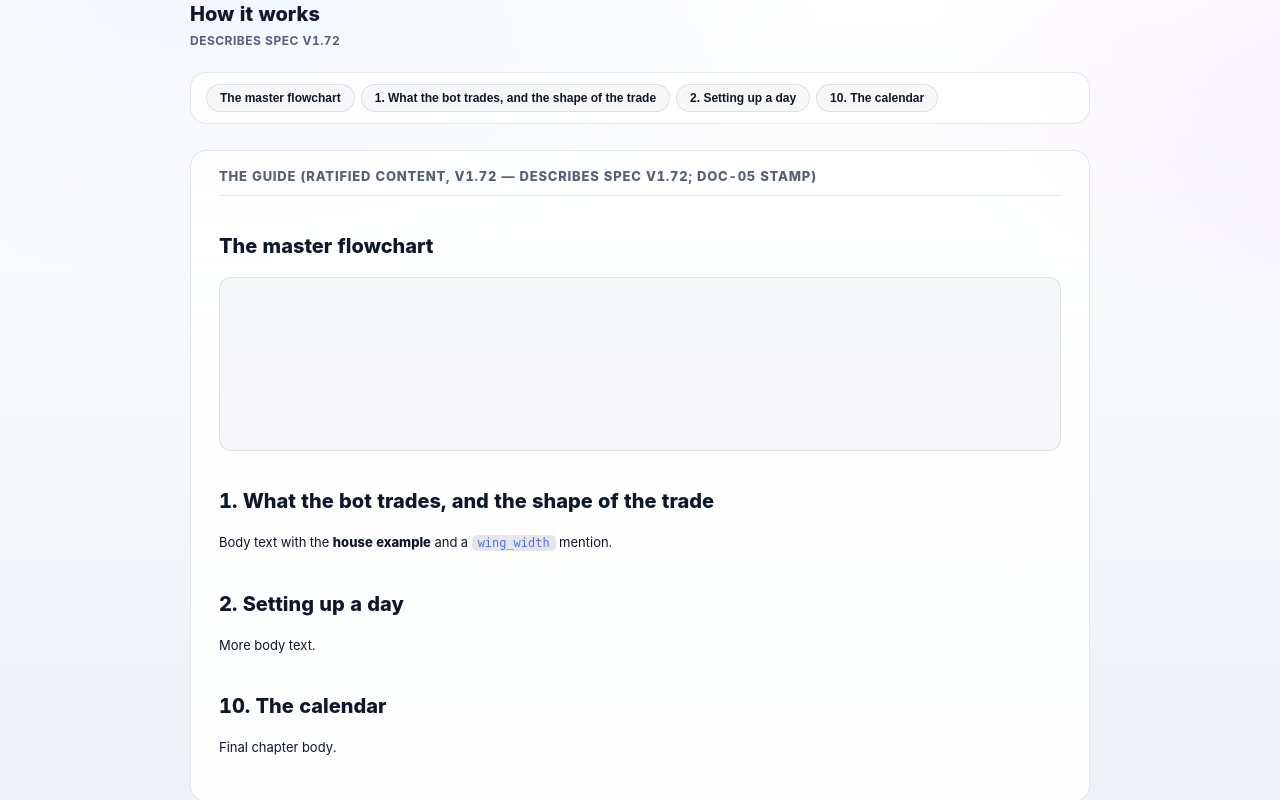
HowItWorksPage — DOC-05 single-source rendering › the master flowchart is clickable to a full-screen pannable zoomable view (DOC-05, v1.77)
Click the button named "The master flowchart (doc 12) — click to enlarge, pan and zo" at [640, 364], box [219,277,1061,451]
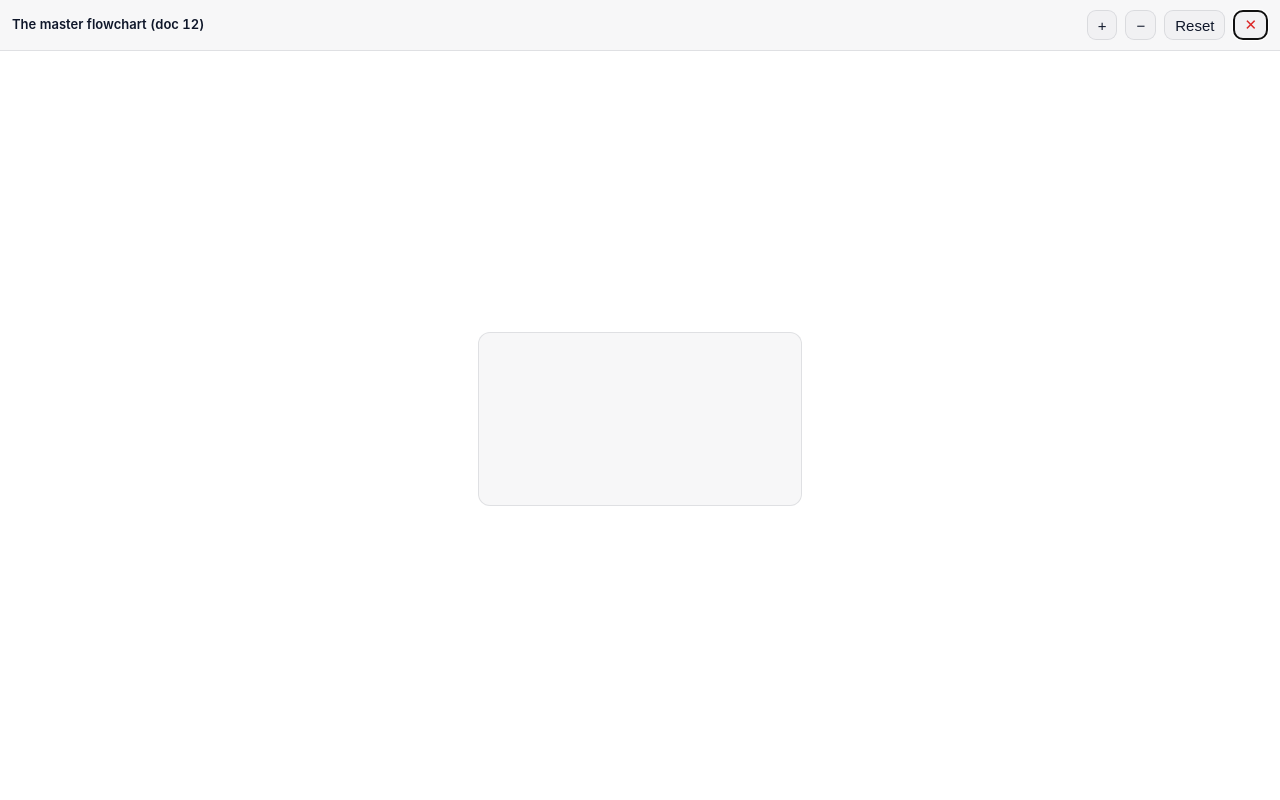
Press Escape
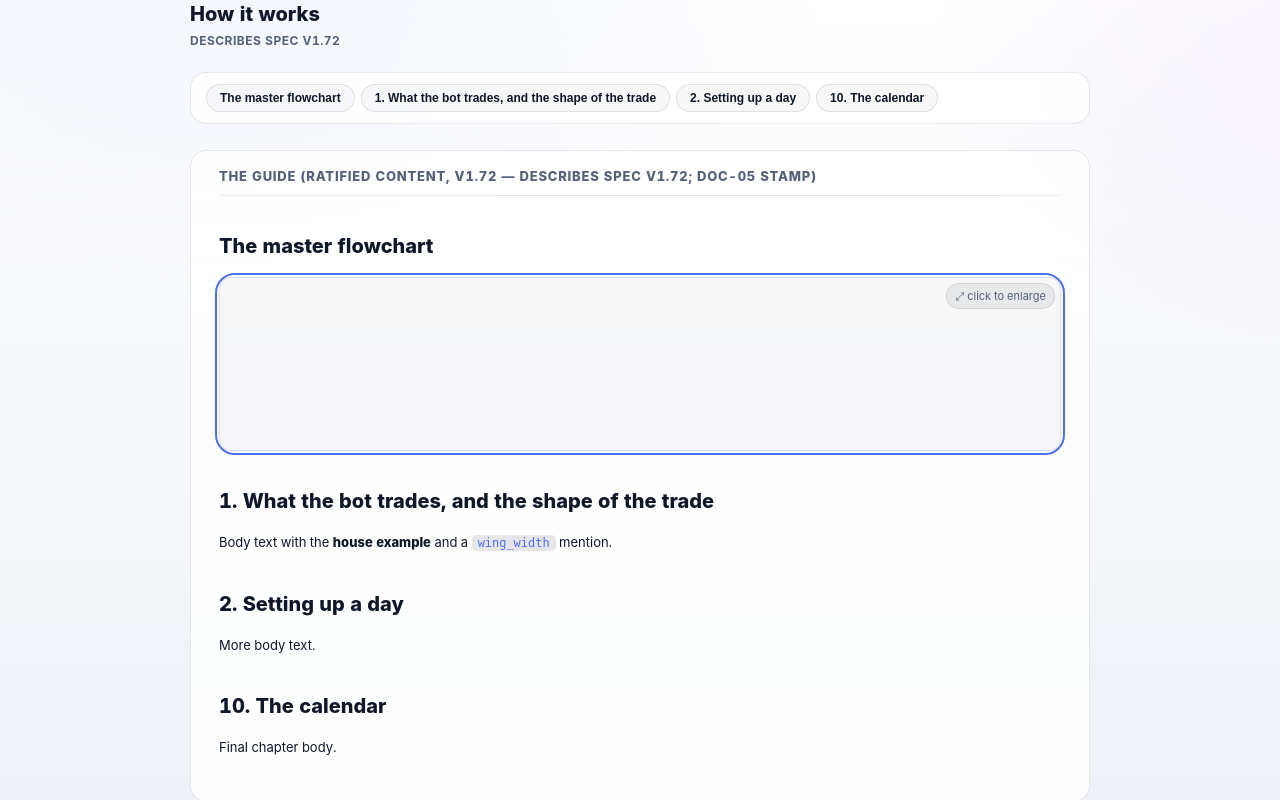
Expected: the dialog with test id "zoom-overlay" is gone
